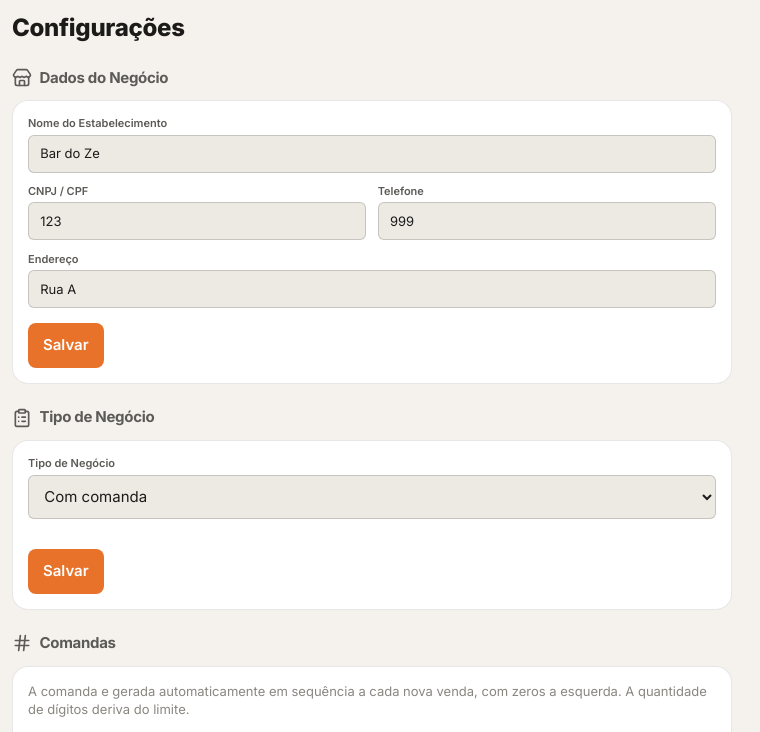
Scenario: SettingsPage › edits the business fields and saves
Replace the text in the field labelled "Nome do Estabelecimento" with "Novo Nome" at (372, 154), box x1=28 y1=135 x2=716 y2=173
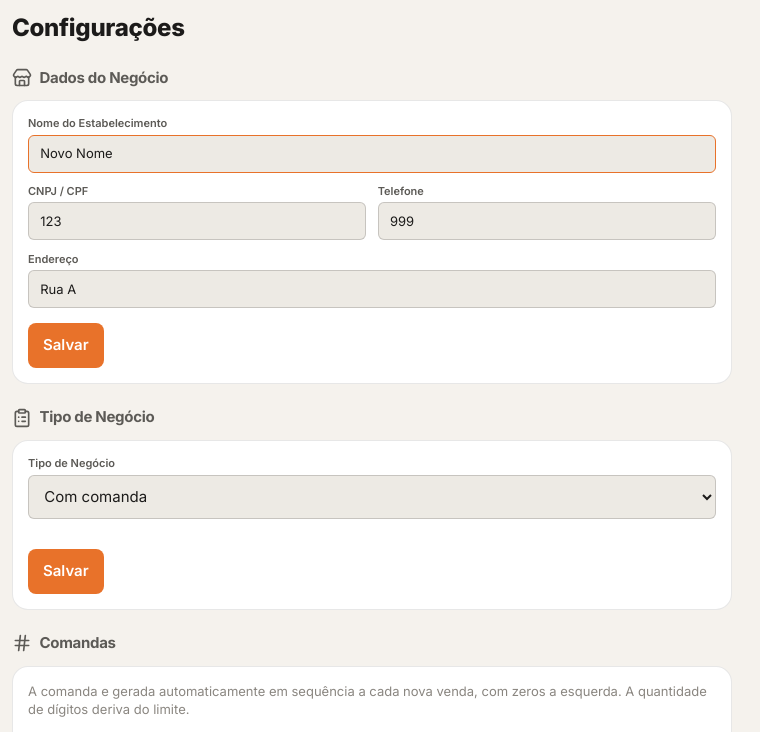
Replace the text in the field labelled "CNPJ / CPF" with "999" at (197, 221), box x1=28 y1=202 x2=366 y2=240
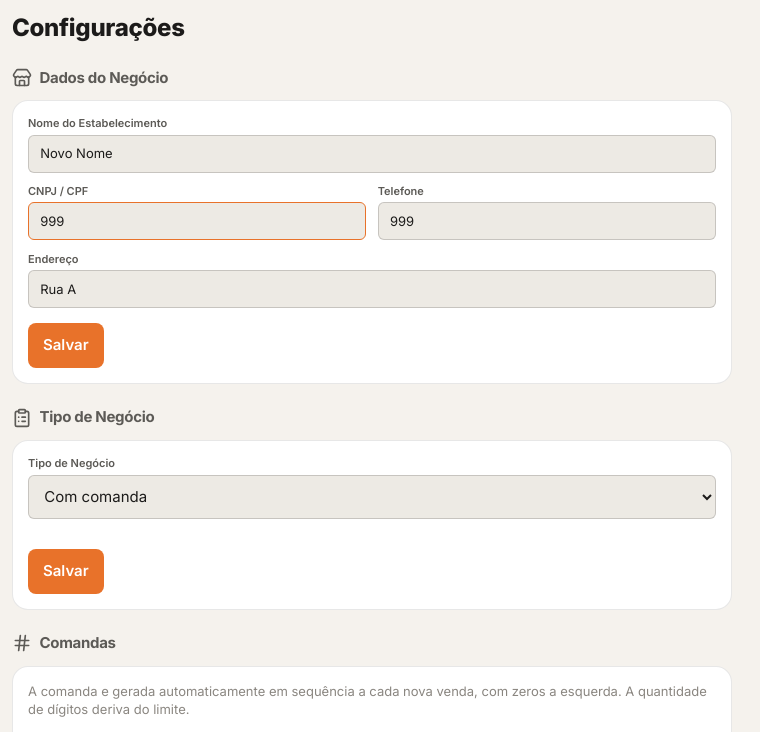
Replace the text in the field labelled "Telefone" with "555" at (547, 221), box x1=378 y1=202 x2=716 y2=240
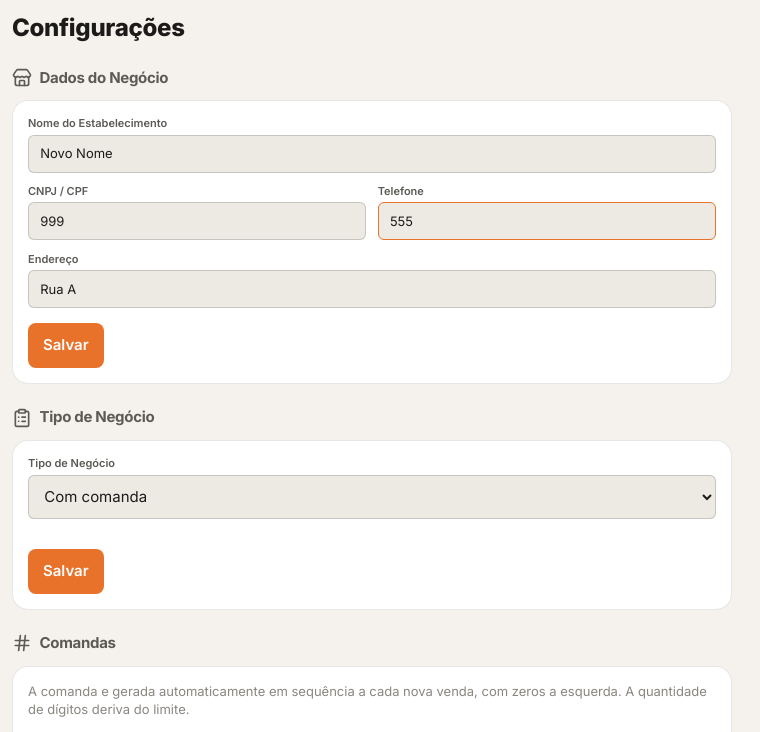
Replace the text in the field labelled "Endereço" with "Rua Nova" at (372, 289), box x1=28 y1=270 x2=716 y2=308
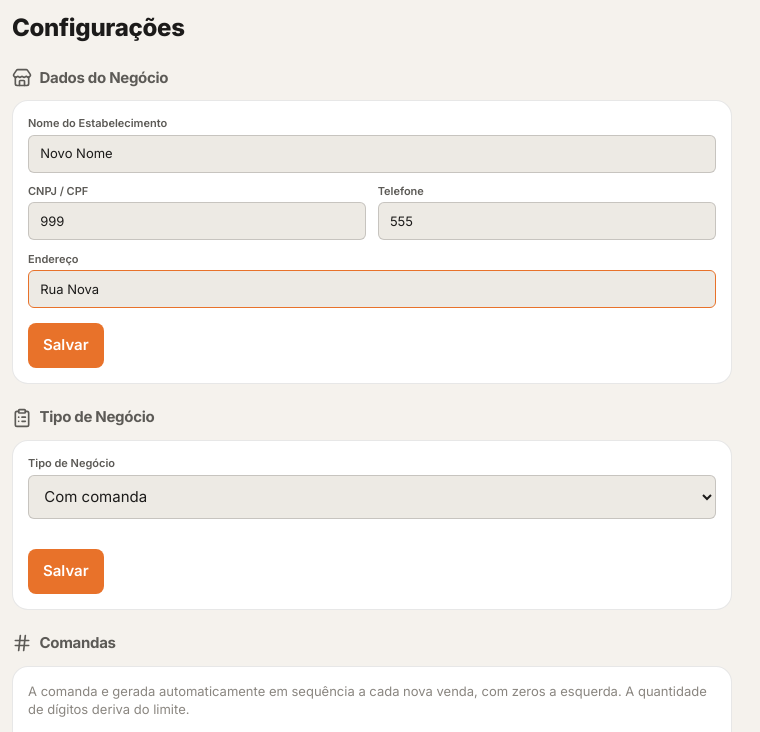
Click the button "Salvar" below "Endereço".
click(66, 346)  # box x1=28 y1=323 x2=104 y2=368
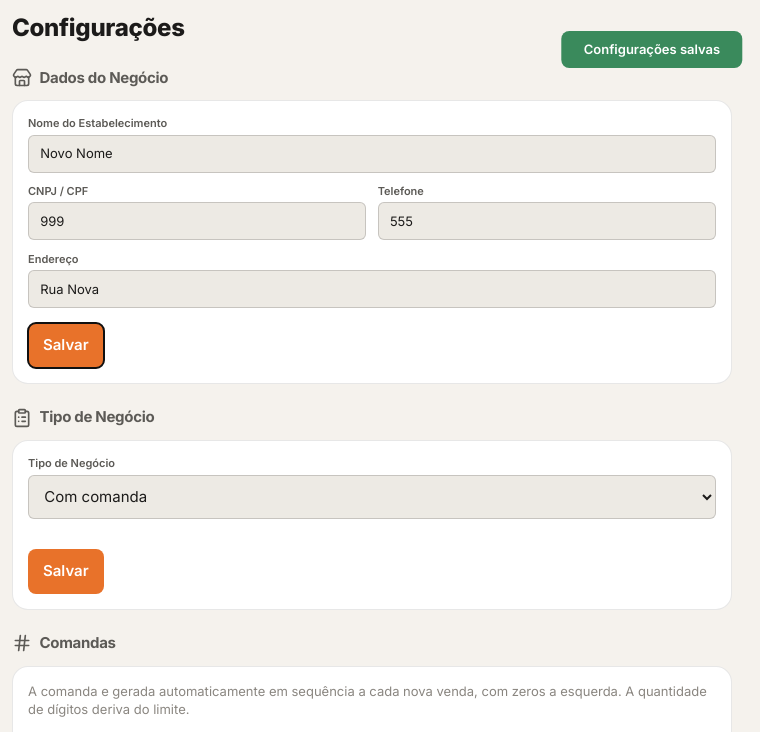
Check: the message reads "Configurações salvas", box x1=584 y1=41 x2=720 y2=57
